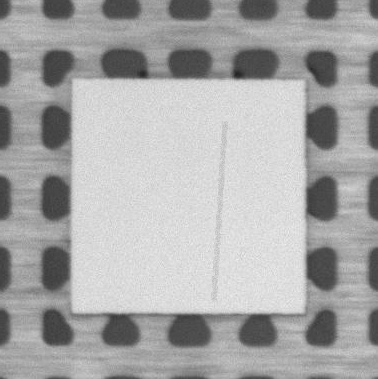DIE_CRACK: (213, 124, 224, 300)
